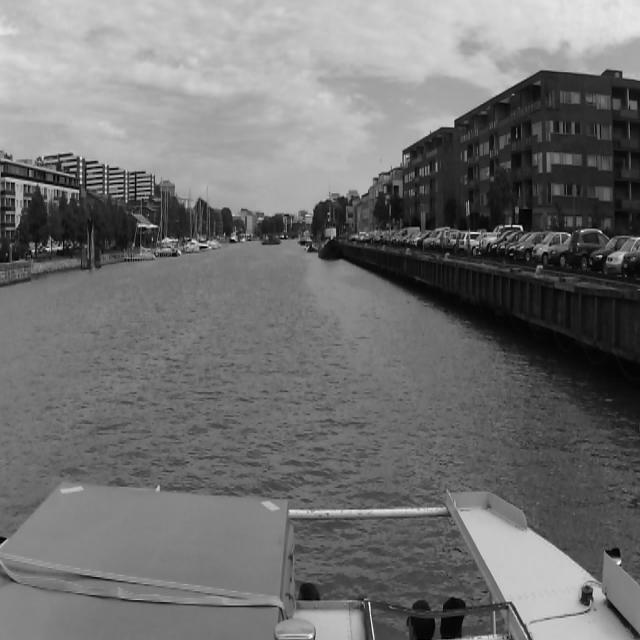ship: (124, 196, 156, 262), (157, 184, 180, 256), (185, 188, 208, 252), (320, 196, 342, 262), (208, 196, 221, 250), (261, 228, 281, 246), (230, 225, 238, 243)
